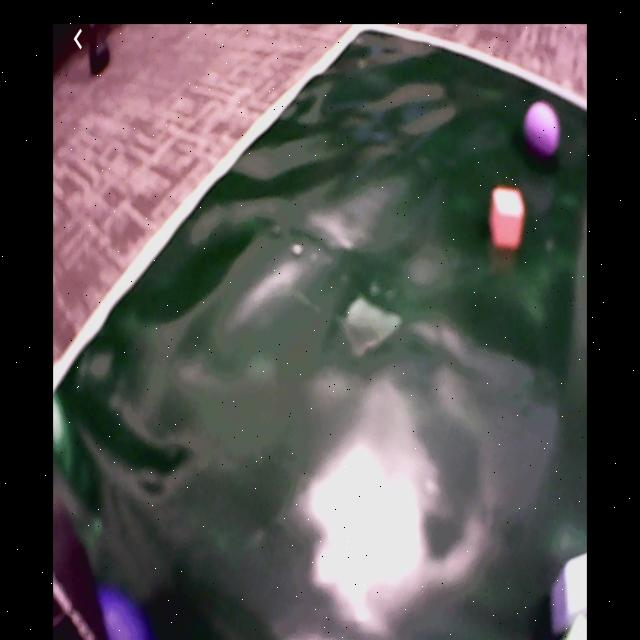ball: (101, 585, 148, 640), (525, 102, 561, 157)
